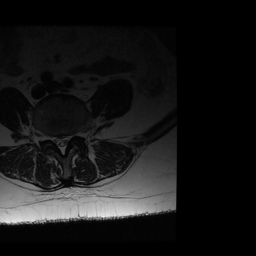CCS_normal: (59, 129, 65, 159)
LFS_stenosis: (70, 125, 76, 143)
LLS_stenosis: (65, 129, 70, 150)
RFS_stenosis: (46, 128, 52, 146)
RLS_normal: (52, 129, 59, 150)
